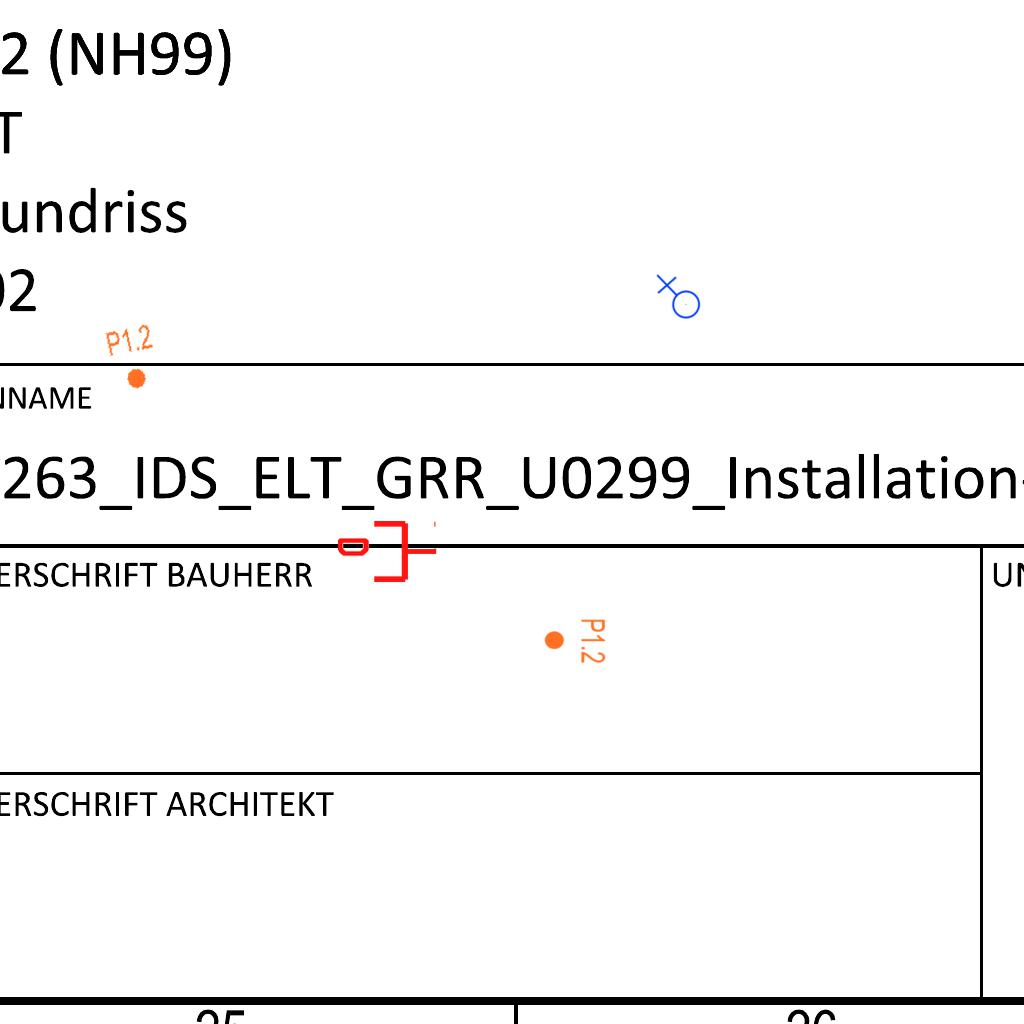Datenanschluss_einfach: (338, 517, 438, 586)
Downlight_LED_Einbauleuchten_Flur: (103, 321, 163, 395), (543, 618, 607, 664)
Elektroanschluss_allgemein_230V_Geraeteanschlussdose_230V: (654, 274, 701, 323)
